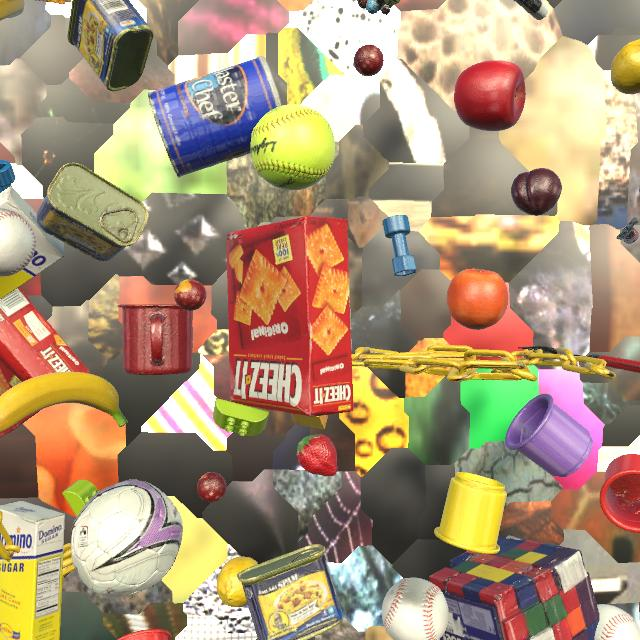ycb_002_master_chef_can: (148, 55, 282, 178), (506, 535, 521, 540)
ycb_003_cracker_box: (226, 216, 354, 417), (0, 287, 90, 438)
ycb_004_sugar_box: (0, 501, 65, 640), (0, 186, 65, 299)
ycb_010_potted_meat_can: (36, 163, 149, 261), (237, 544, 343, 640), (67, 0, 153, 91)
ycb_011_banana: (0, 372, 128, 433), (0, 0, 24, 21)
ycb_012_strawberry: (297, 434, 337, 476)
ycb_013_apple: (454, 60, 526, 131)
ycb_014_lemon: (216, 556, 258, 608), (610, 39, 640, 94)
ycb_017_orange: (446, 269, 508, 330)
ycb_018_plum: (511, 168, 562, 216)
